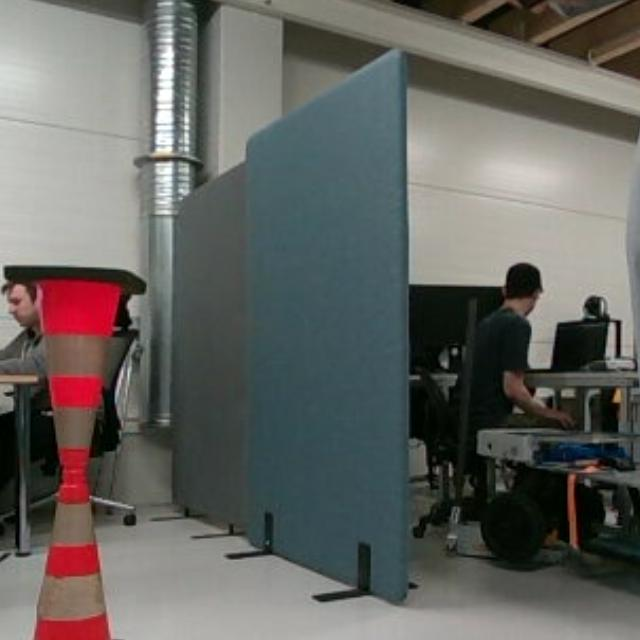Traffic-cone: (0, 260, 151, 477), (0, 479, 140, 640)
